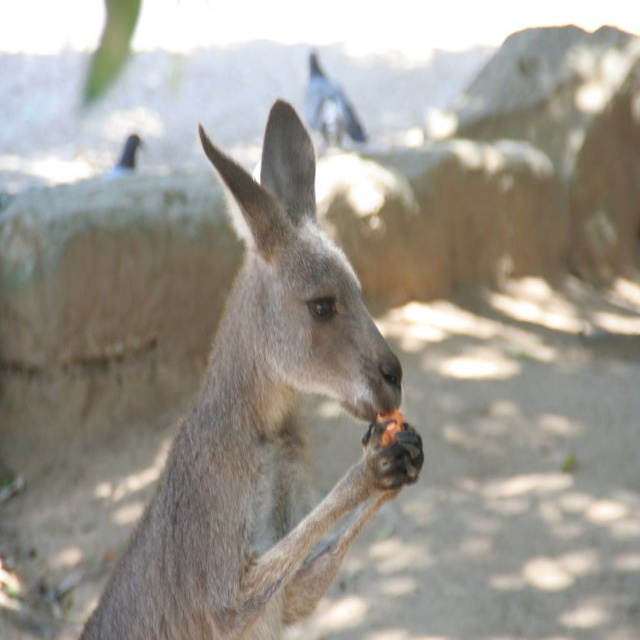Kangaroo: (73, 96, 423, 639)
